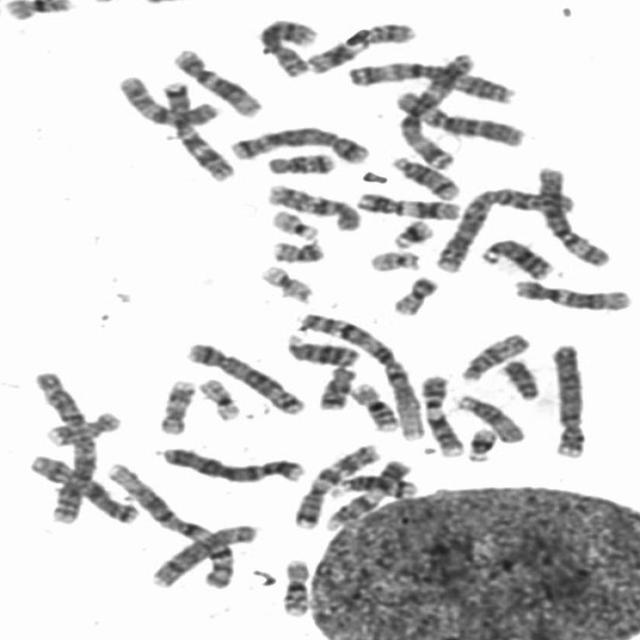A1: (291, 306, 430, 442), (100, 457, 239, 591)
A2: (430, 181, 580, 274), (26, 365, 99, 528)
A3: (392, 46, 478, 170), (342, 56, 518, 106)
B4: (157, 441, 310, 484), (546, 338, 588, 460)
B5: (180, 336, 310, 416), (225, 121, 372, 165)
C10: (112, 70, 224, 128), (260, 179, 363, 233)
C11: (300, 16, 418, 76), (351, 187, 463, 221)
C12: (168, 44, 265, 118), (509, 274, 634, 312)
C6: (530, 161, 615, 267), (390, 86, 529, 148)
C7: (289, 438, 383, 530), (158, 75, 238, 182)
C8: (147, 518, 260, 589), (255, 15, 322, 78)
C9: (319, 454, 414, 531), (417, 369, 467, 458)
D13: (478, 234, 556, 280), (282, 329, 363, 367)
D14: (386, 151, 463, 201), (325, 471, 418, 500)
D15: (451, 389, 529, 445), (453, 328, 532, 383)
E16: (347, 378, 402, 432), (276, 553, 314, 618)
E17: (41, 406, 124, 448), (153, 374, 198, 436)
E18: (312, 361, 360, 412), (260, 148, 337, 176)
F19: (254, 260, 316, 304), (193, 372, 245, 422)
F20: (387, 270, 442, 316), (266, 236, 327, 264)
G21: (387, 215, 437, 250), (461, 422, 499, 462)
G22: (266, 204, 322, 241), (363, 245, 424, 272)
X: (23, 450, 141, 525)
Y: (497, 354, 543, 401)
